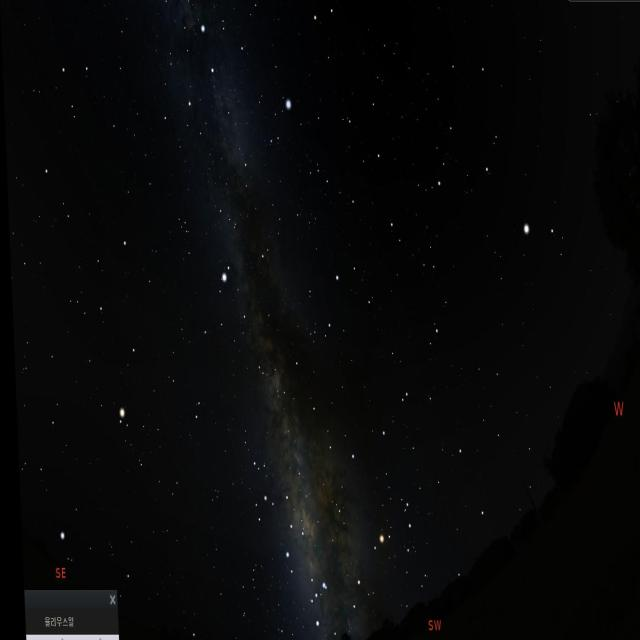aquila: (195, 216, 278, 383)
bootes: (436, 39, 556, 281)
cygnus: (179, 19, 258, 185)
lyra: (257, 100, 300, 163)
sagittarius: (232, 448, 293, 535)
scorpius: (296, 474, 423, 616)
